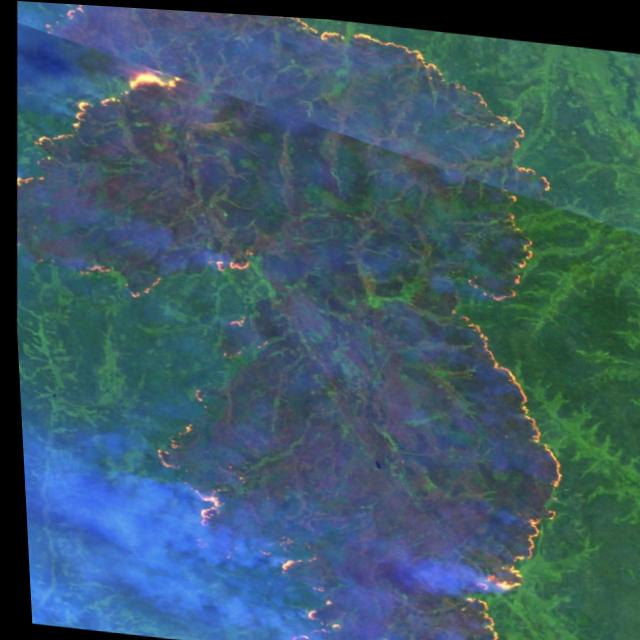fire: (0, 0, 596, 640)
